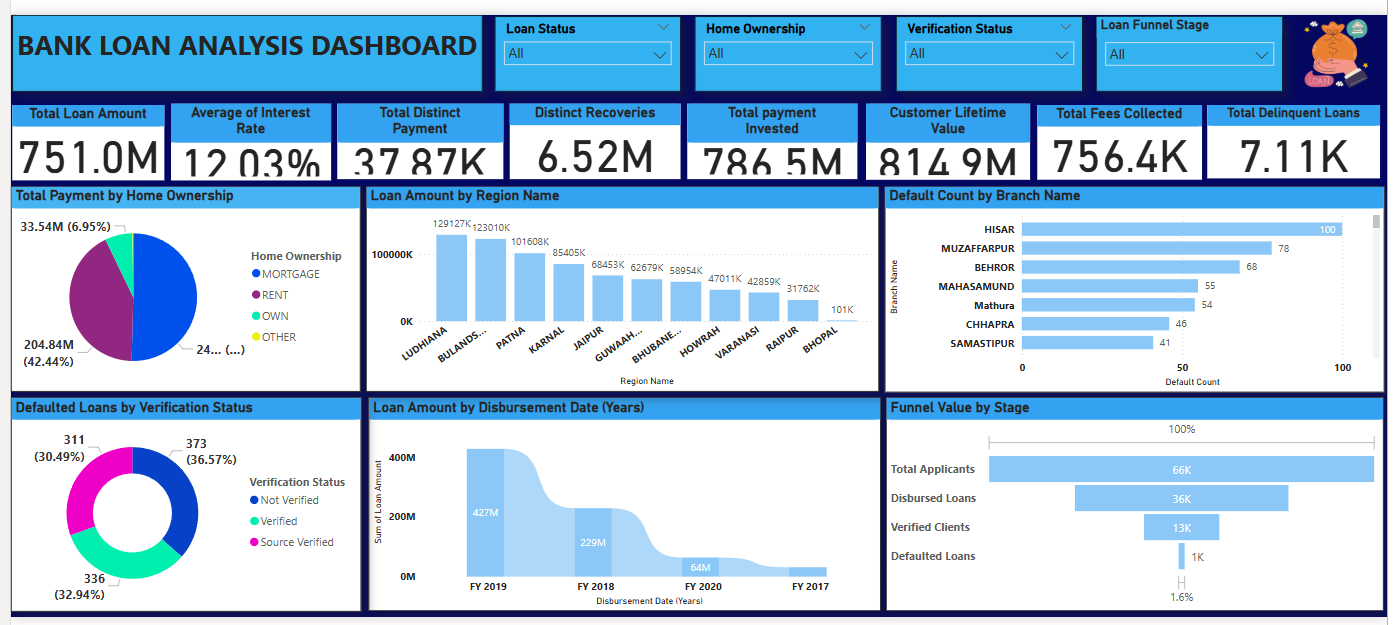

This screenshot's page, from the dashboard's own definition file:
{"tool":"tableau","page":{"name":"Main Dashboard","canvas":[1000,1000],"units":"permille","ordinal":5},"visuals":[{"type":"title","box":[4.8,10,990.3,96.1]},{"type":"image","param":"Image/[number redacted].jpg","box":[7.2,12.9,61.6,77.6]},{"type":"image","param":"Image/pngimg.com - piggy_bank_PNG52.png","box":[933.6,16,56.7,72.2]},{"type":"image","param":"Image/web-icon-logo-A6B586D114-seeklogo.com.png","box":[654.2,18.3,81.5,68.7]},{"type":"worksheet","title":"Card 4","mark":"Automatic","box":[387,115.4,139.8,95]},{"type":"worksheet","title":"Card 1","mark":"Automatic","box":[4.4,116.6,114.9,97.4]},{"type":"worksheet","title":"Card 2","mark":"Automatic","box":[127.3,116.6,123.6,96.2]},{"type":"worksheet","title":"Card 3","mark":"Automatic","box":[259.6,116.6,118.6,96.2]},{"type":"filter","title":"KPI 1","param":"[federated.1k56wus0ylsigh151kcn31l94zhr].[none:Purpose:nk]","box":[767.1,116.6,102.5,92.5]},{"type":"filter","title":"KPI 2","param":"[federated.1k56wus0ylsigh151kcn31l94zhr].[none:Grade:nk]","box":[653.4,117.8,100.6,91.4]},{"type":"parameter","param":"[Parameters].[Parameter 1]","box":[883.9,117.8,106.8,88.9]},{"type":"filter","title":"KPI 1","param":"[federated.1k56wus0ylsigh151kcn31l94zhr].[none:Loan_Status:nk]","box":[539.1,119,98.8,91.4]},{"type":"worksheet","title":"KPI 1","mark":"Bar","rows":["Loan_Amnt"],"cols":["Issue_D"],"box":[4.8,222.2,333.1,327.6]},{"type":"dashboard-object","box":[7.9,223.4,20.5,36.7]},{"type":"dashboard-object","box":[348.8,223.4,26.6,36.7]},{"type":"worksheet","title":"KPI 2","mark":"Bar","rows":["Revol_Bal"],"cols":["Grade","Sub_Grade"],"box":[346,223.6,645.9,326.9]},{"type":"dashboard-object","box":[10.8,226.8,31.3,36.4]},{"type":"worksheet","title":"KPI 3","mark":"Pie","rows":["Calculation_814025687453990912","Calculation_814025687453990912"],"box":[345.8,560.1,240.8,433]},{"type":"worksheet","title":"KPI 5","mark":"Automatic","box":[590.8,560.1,400.7,430.7]},{"type":"dashboard-object","box":[595.6,562.4,17.5,32.1]},{"type":"worksheet","title":"KPI 4","mark":"Automatic","rows":["Last_Credit_Pull_D","Loan_Status"],"cols":["Addr_State"],"box":[7.2,563.6,328.9,428.4]},{"type":"dashboard-object","box":[14.5,573.9,22.3,36.7]},{"type":"dashboard-object","box":[342.8,589.9,24.7,30.9]}]}

Visuals, with their boxes on the dashboard's canvas, which has no fixed pixel size, in thousandths of its width and height (x1, y1, x2, y2). These are canvas units, not pixel positions in the 1394x625 screenshot, which may show the page scaled, cropped or inside an application window:
title: <bbox>5, 10, 995, 106</bbox>
image: <bbox>7, 13, 69, 90</bbox>
image: <bbox>934, 16, 990, 88</bbox>
image: <bbox>654, 18, 736, 87</bbox>
"Card 4" worksheet: <bbox>387, 115, 527, 210</bbox>
"Card 1" worksheet: <bbox>4, 117, 119, 214</bbox>
"Card 2" worksheet: <bbox>127, 117, 251, 213</bbox>
"Card 3" worksheet: <bbox>260, 117, 378, 213</bbox>
"KPI 1" filter: <bbox>767, 117, 870, 209</bbox>
"KPI 2" filter: <bbox>653, 118, 754, 209</bbox>
parameter: <bbox>884, 118, 991, 207</bbox>
"KPI 1" filter: <bbox>539, 119, 638, 210</bbox>
"KPI 1" worksheet (Bar marks): <bbox>5, 222, 338, 550</bbox>
dashboard-object: <bbox>8, 223, 28, 260</bbox>
dashboard-object: <bbox>349, 223, 375, 260</bbox>
"KPI 2" worksheet (Bar marks): <bbox>346, 224, 992, 550</bbox>
dashboard-object: <bbox>11, 227, 42, 263</bbox>
"KPI 3" worksheet (Pie marks): <bbox>346, 560, 587, 993</bbox>
"KPI 5" worksheet: <bbox>591, 560, 992, 991</bbox>
dashboard-object: <bbox>596, 562, 613, 594</bbox>
"KPI 4" worksheet: <bbox>7, 564, 336, 992</bbox>
dashboard-object: <bbox>14, 574, 37, 611</bbox>
dashboard-object: <bbox>343, 590, 368, 621</bbox>
